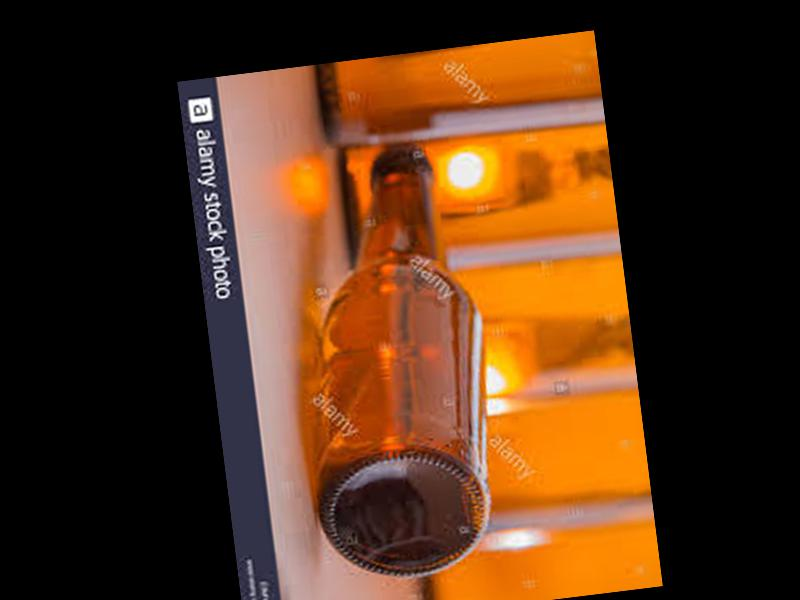Beer: (266, 143, 514, 590)
